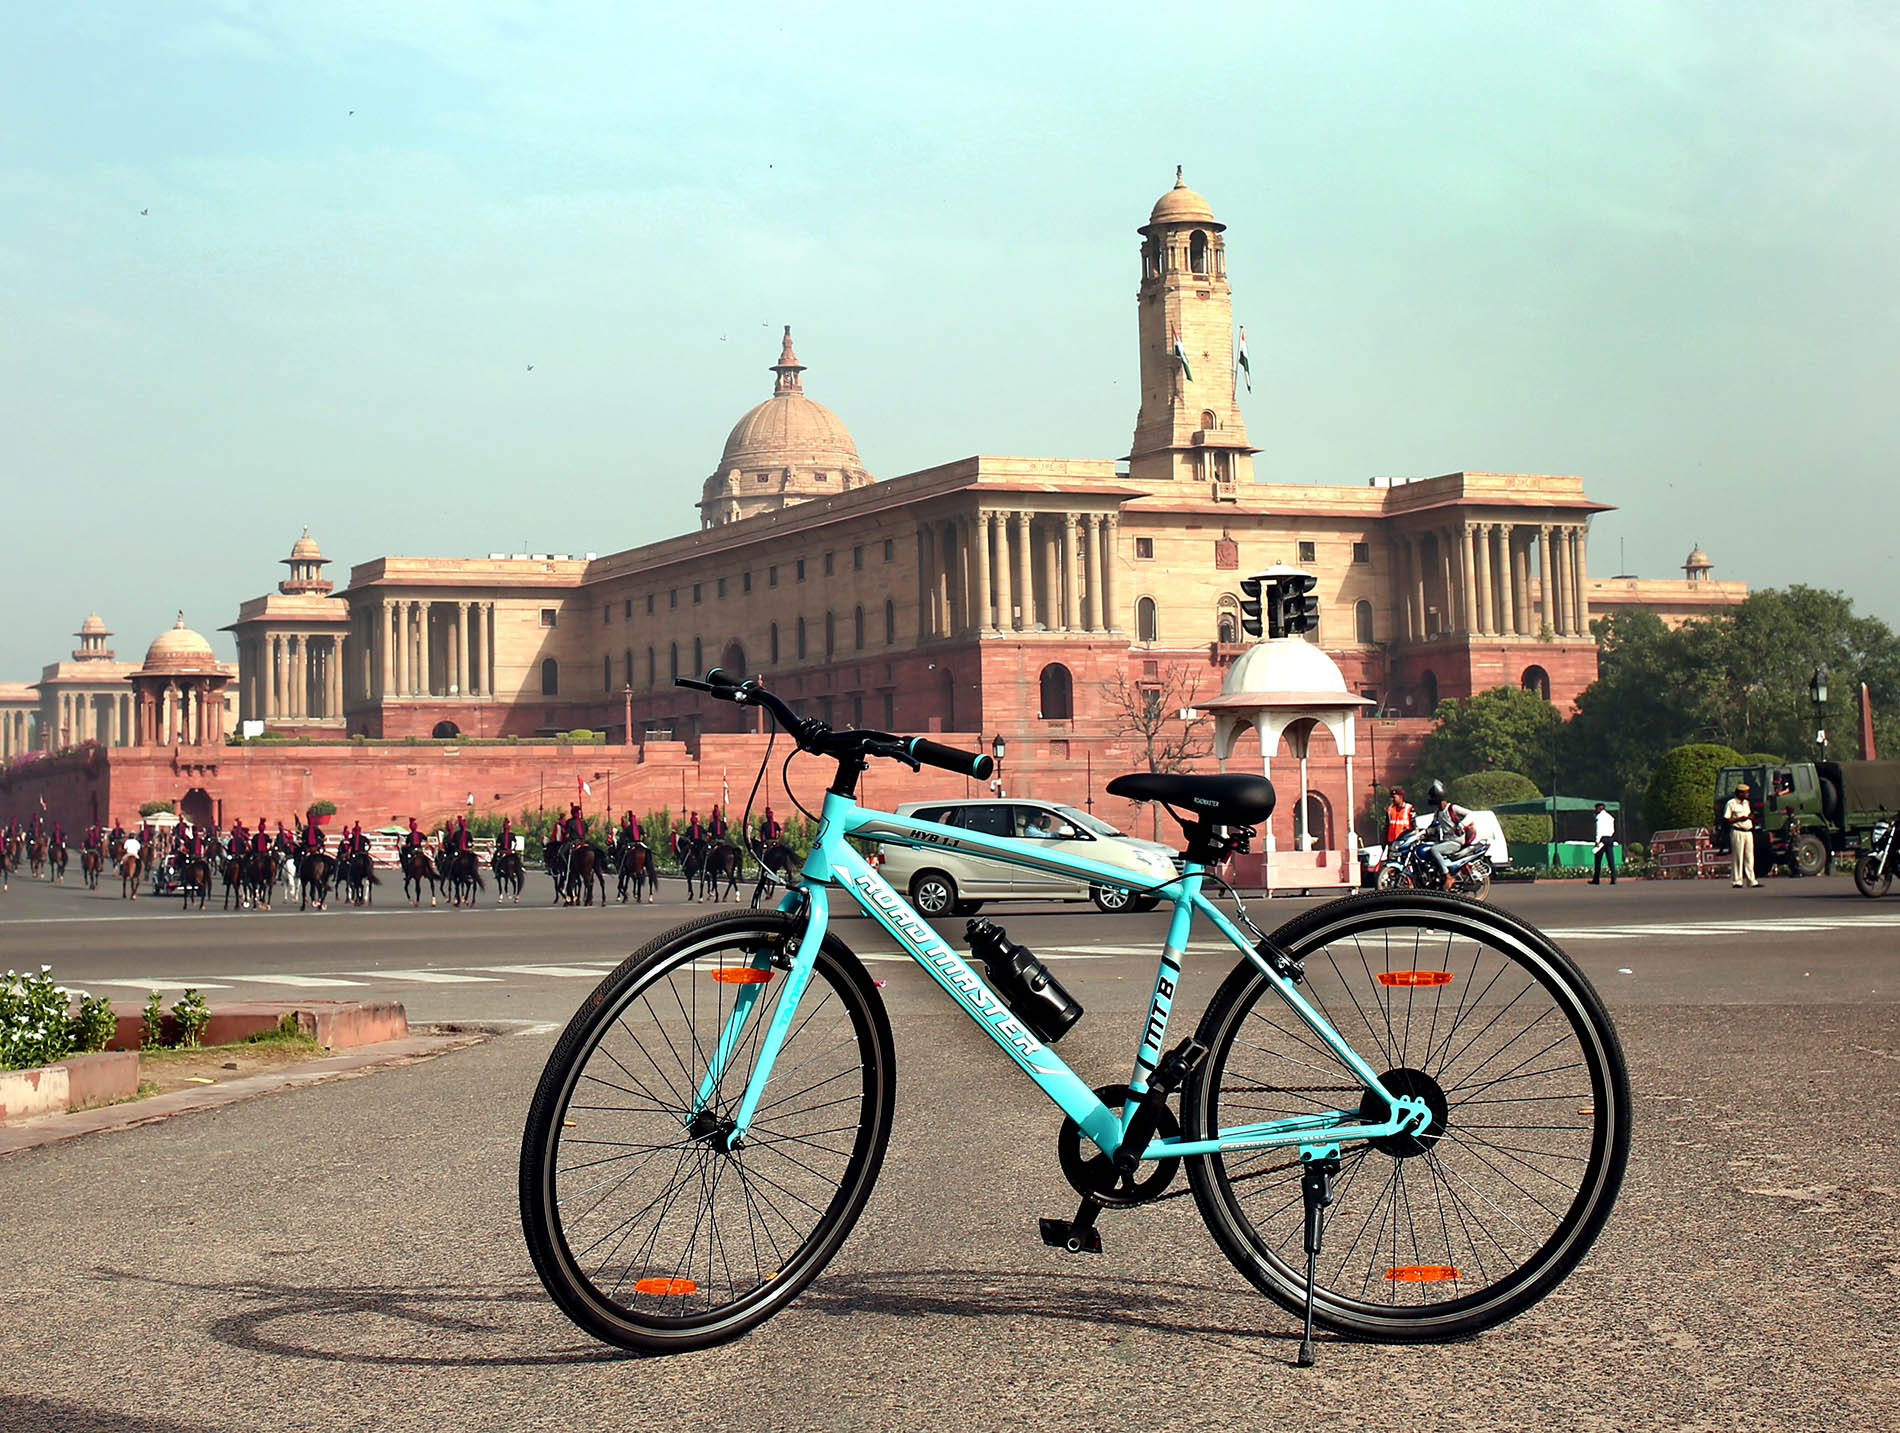cycle: (510, 668, 1688, 1367)
